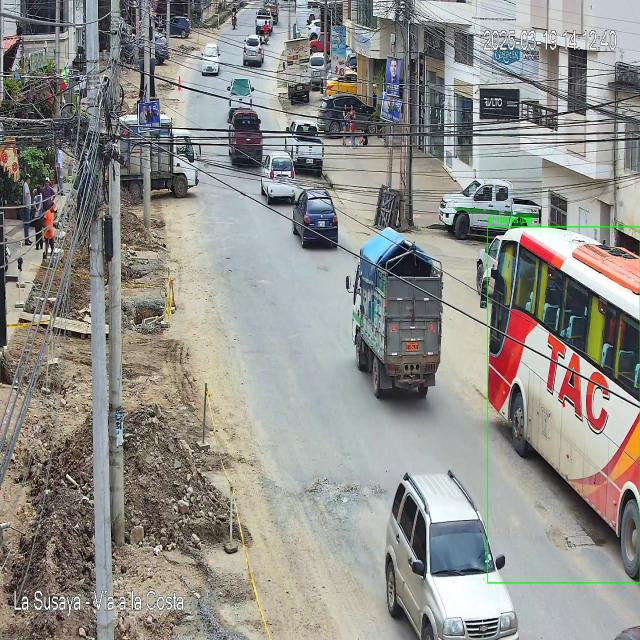BUS: (488, 228, 640, 582)
SED: (291, 184, 336, 246)
SUV: (385, 476, 518, 640)
TRUCK: (350, 230, 444, 398)
